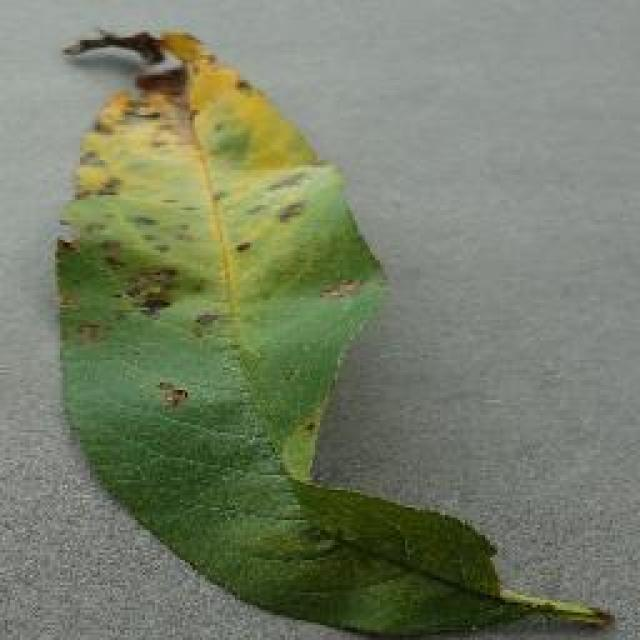Peach_Bacterial_Spot: (55, 35, 323, 385)
